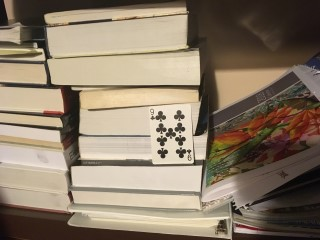NineOfClubs: (149, 104, 194, 165)
